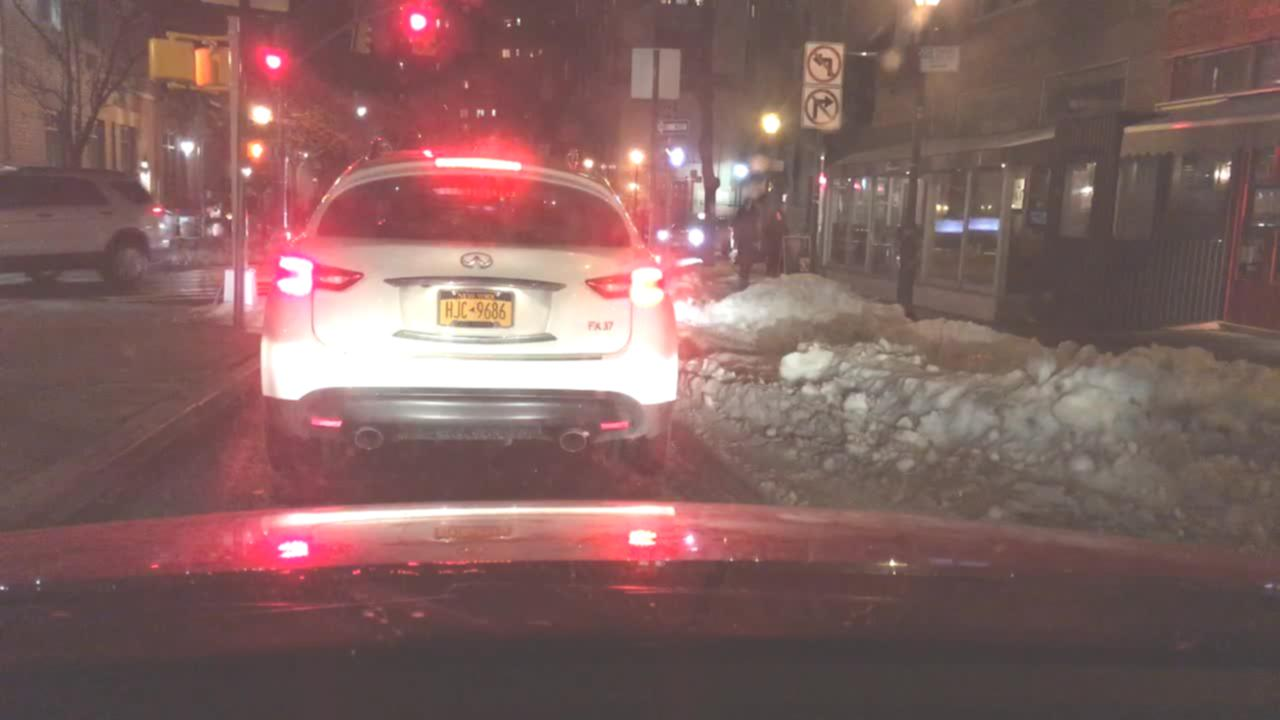Infiniti: (450, 246, 499, 281)
